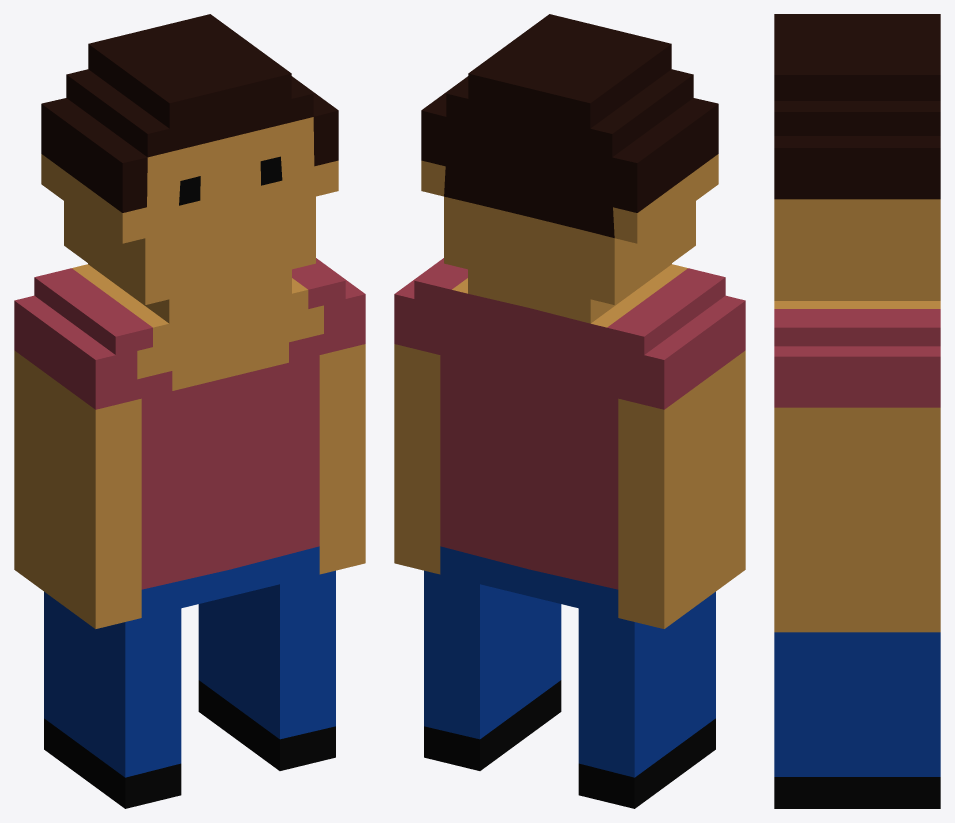
Rendered from testAvatar.obj.
3 renders of one model, left to right at view 1: azimuth 30°, elevation 25°; view 2: azimuth 150°, elevation 25°; view 3: azimuth 270°, elevation 25°, orthographic. The views are drawn at different scales.
Parts seen in each view (by area): view 1: Cube.001; view 2: Cube.001; view 3: Cube.001.
Boxes of the visible parts, bbox=[...] form: Cube.001: bbox=[14, 14, 365, 808]; Cube.001: bbox=[394, 14, 745, 808]; Cube.001: bbox=[774, 14, 940, 808].
Size of the model in its own units: 0.0661 by 0.1624 by 0.0345.
